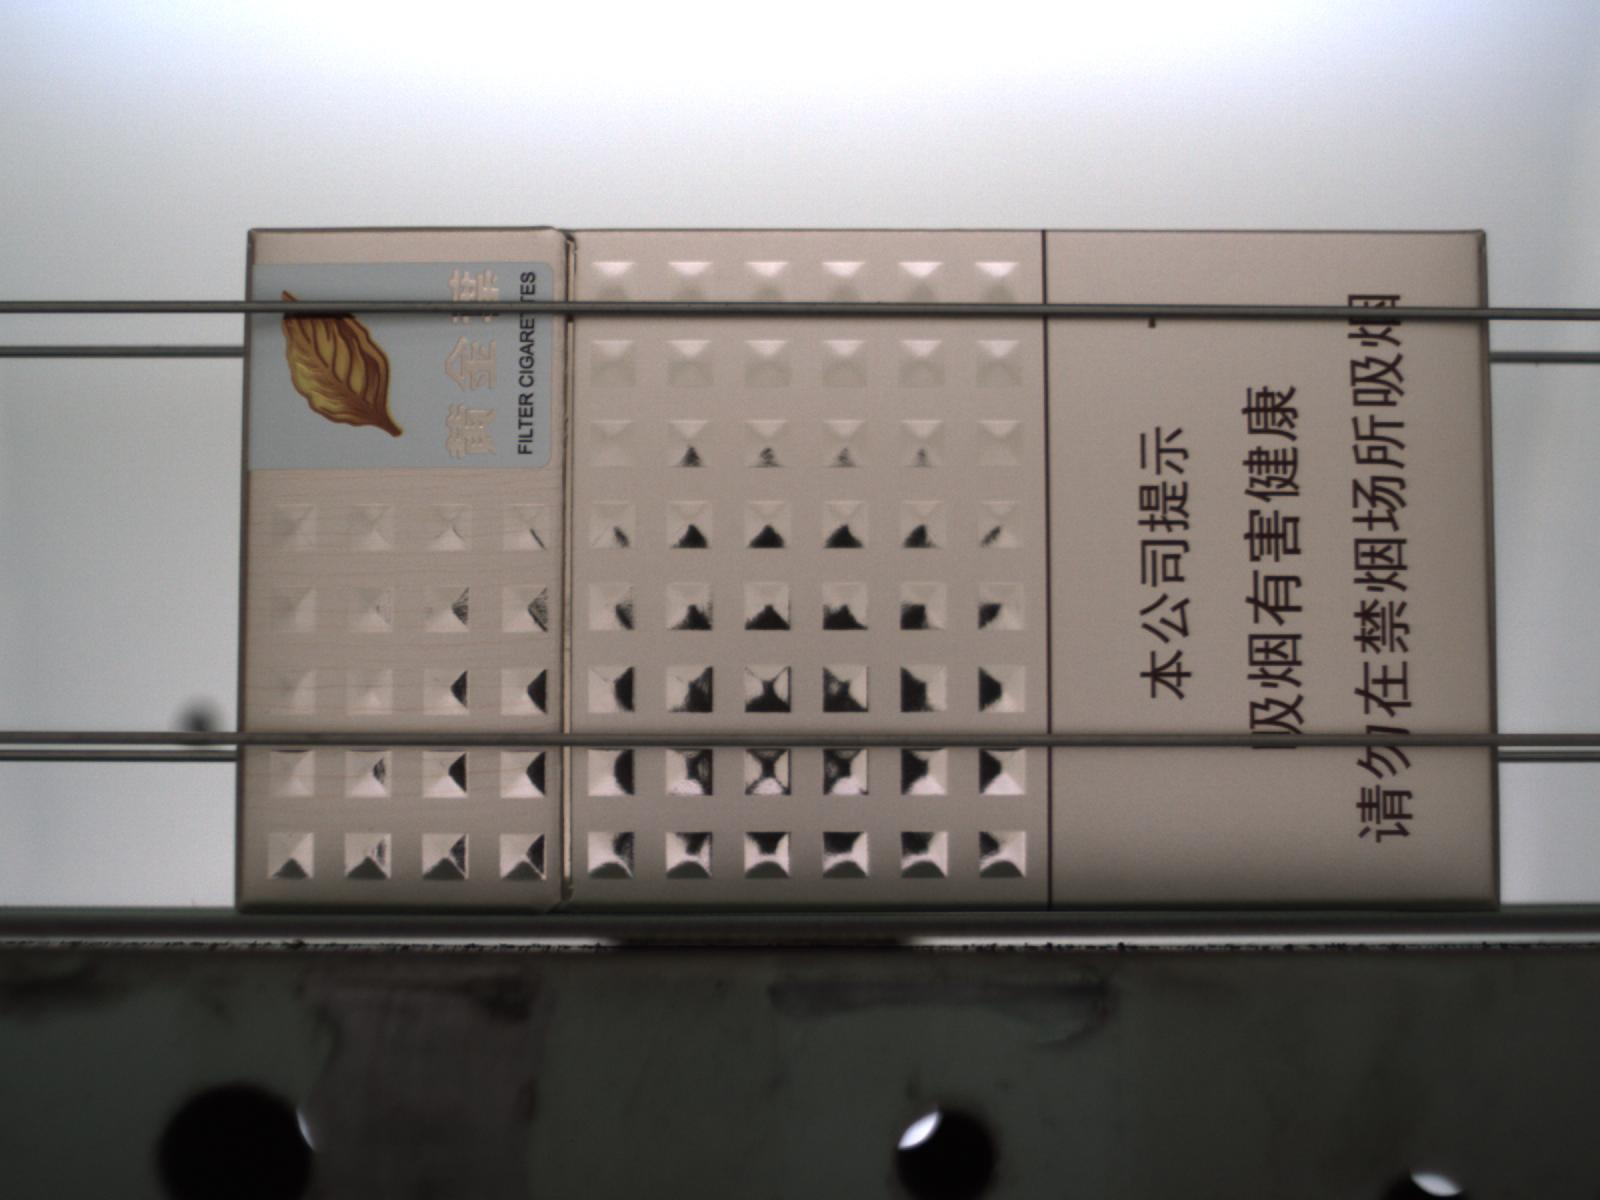dirtySpot: (1145, 316, 1162, 332)
